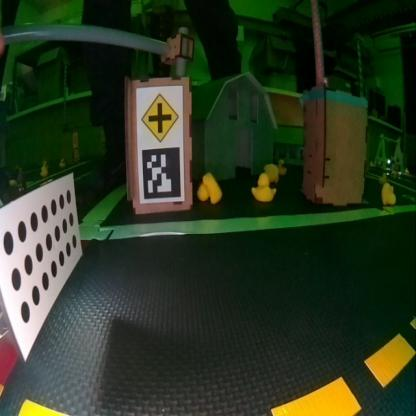Duckie: (197, 174, 221, 203), (252, 173, 274, 201), (380, 182, 395, 205), (263, 162, 278, 180), (277, 159, 286, 175)
Duckiebot: (0, 171, 84, 362)
Intersection sign: (141, 92, 178, 140)
QR code: (140, 146, 181, 199)
